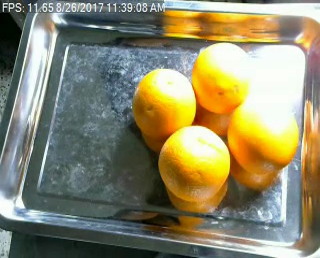Orange: (228, 93, 300, 175), (160, 124, 232, 202), (132, 69, 196, 140), (191, 43, 252, 114)
